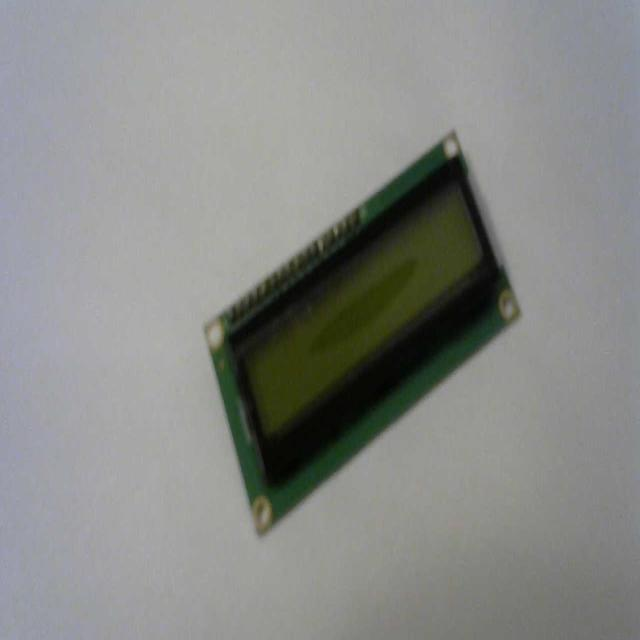lcd: (203, 127, 522, 535)
